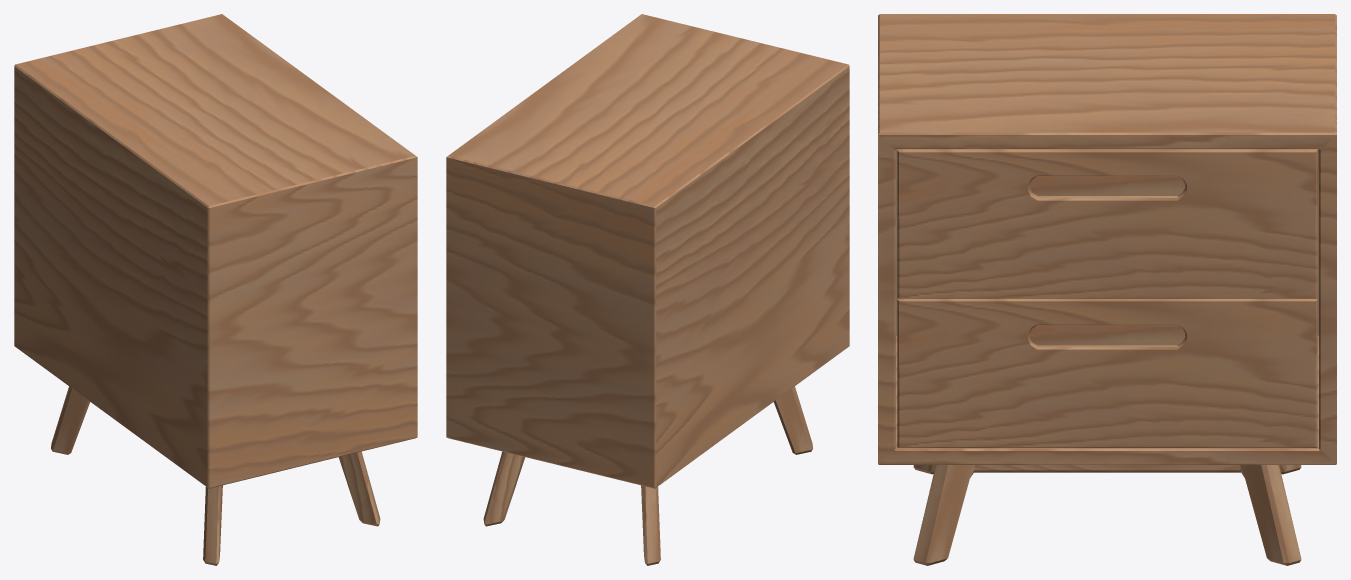
File: bedsideTable1.glb
3 renders of one model, left to right at view 1: azimuth 30°, elevation 25°; view 2: azimuth 150°, elevation 25°; view 3: azimuth 270°, elevation 25°, orthographic. The views are drawn at different scales.
Parts seen in each view (by area): view 1: Cube.028; view 2: Cube.028; view 3: Cube.028.
Boxes of the visible parts, <box> form: Cube.028: <box>14,14,417,565</box>; Cube.028: <box>446,14,849,565</box>; Cube.028: <box>878,14,1336,565</box>.
Bounding box in the file's own units: 0.239 × 0.4107 × 0.3858.
Materials: 1 (1 with a texture image).
